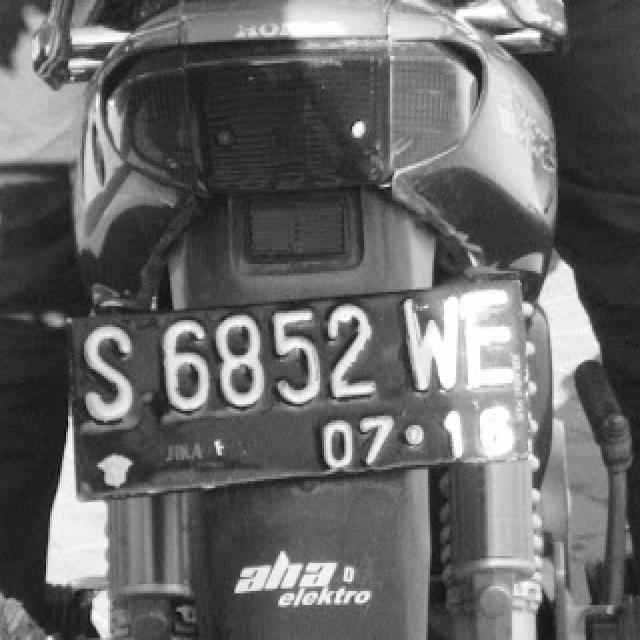2: (319, 298, 385, 408)
5: (260, 303, 331, 415)
6: (155, 315, 214, 419)
8: (212, 309, 272, 412)
E: (462, 291, 524, 396)
S: (78, 322, 140, 423)
W: (398, 296, 464, 394)
